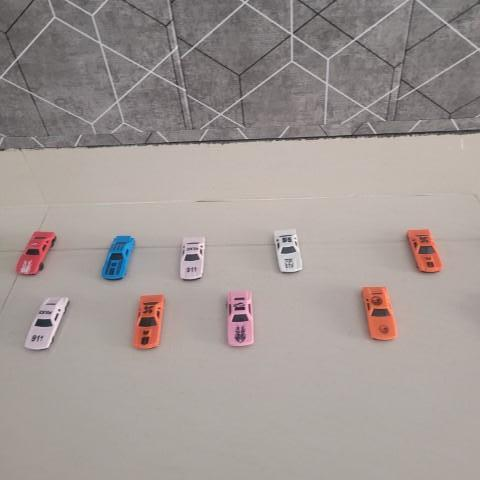car: (23, 293, 72, 354), (360, 281, 399, 340), (13, 228, 60, 275), (405, 223, 446, 274), (269, 224, 305, 276), (134, 292, 166, 349), (225, 289, 255, 348), (100, 235, 139, 280), (178, 232, 209, 284)
